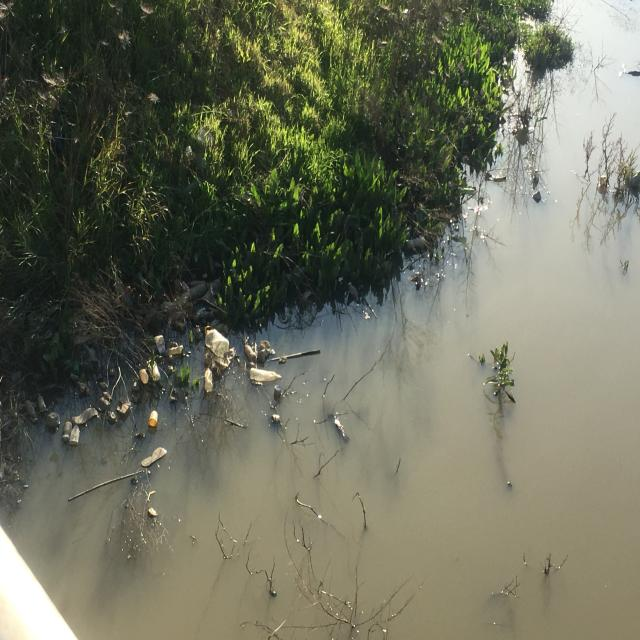Plastic bag: (256, 338, 270, 365)
Plastic bottle: (203, 324, 231, 358), (248, 367, 282, 382), (182, 282, 207, 301), (146, 355, 162, 383), (24, 398, 38, 424), (345, 280, 360, 303), (154, 333, 167, 357), (203, 366, 214, 393), (243, 342, 257, 363), (68, 424, 81, 445), (406, 237, 427, 250), (61, 421, 73, 442), (148, 408, 159, 430), (165, 344, 184, 356), (36, 392, 47, 412), (139, 367, 149, 386), (189, 279, 207, 289), (77, 380, 87, 395), (273, 384, 282, 400)
Plastic packaging: (72, 404, 100, 426)
Undefined trash: (94, 373, 140, 428), (328, 411, 350, 446), (141, 445, 167, 469), (266, 412, 284, 436), (146, 507, 160, 519), (532, 189, 542, 203)
Wood: (66, 469, 149, 504), (265, 348, 322, 362)
